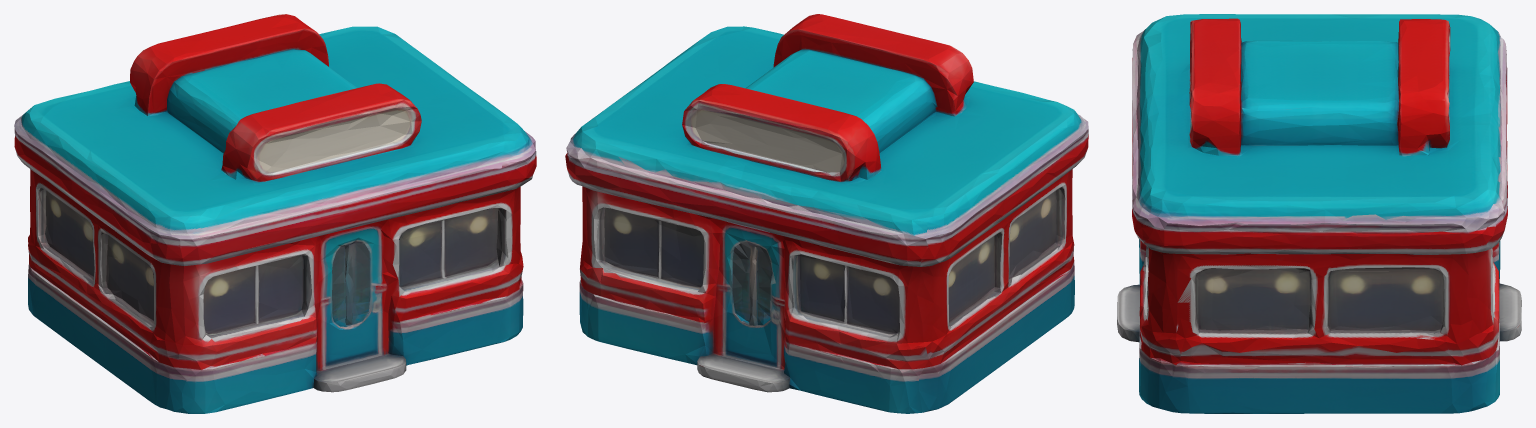
The model's file is diner.glb.
The picture shows the model from 3 angles, left to right: view 1: azimuth 30°, elevation 25°; view 2: azimuth 150°, elevation 25°; view 3: azimuth 270°, elevation 25°; orthographic projection. The views are drawn at different scales.
Visible parts, largest first — view 1: geometry_0; view 2: geometry_0; view 3: geometry_0.
Boxes of the visible parts, bbox=[...] form: geometry_0: bbox=[14, 14, 536, 413]; geometry_0: bbox=[565, 14, 1088, 413]; geometry_0: bbox=[1117, 14, 1521, 413].
Bounding box in the file's own units: 1 × 0.6143 × 0.8475.
Materials: 1 (1 with a texture image).
